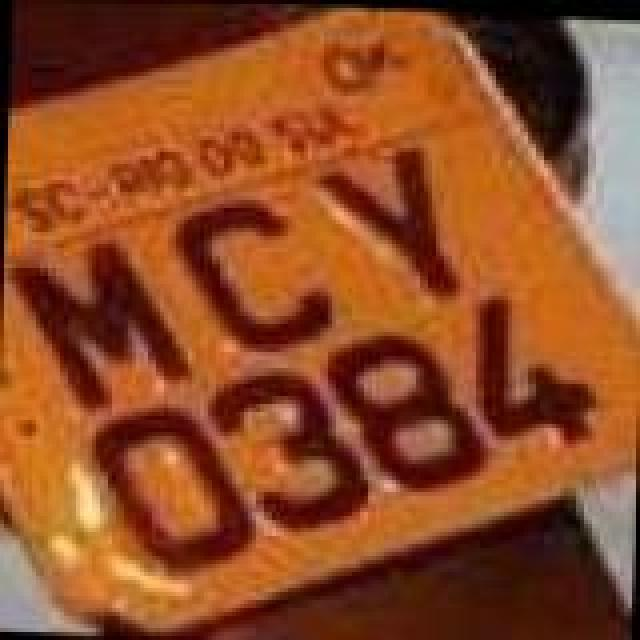3: (200, 368, 368, 532)
4: (470, 292, 598, 448)
8: (318, 328, 494, 496)
C: (166, 190, 334, 354)
M: (2, 228, 198, 416)
O: (82, 396, 258, 572)
Y: (312, 136, 464, 292)
